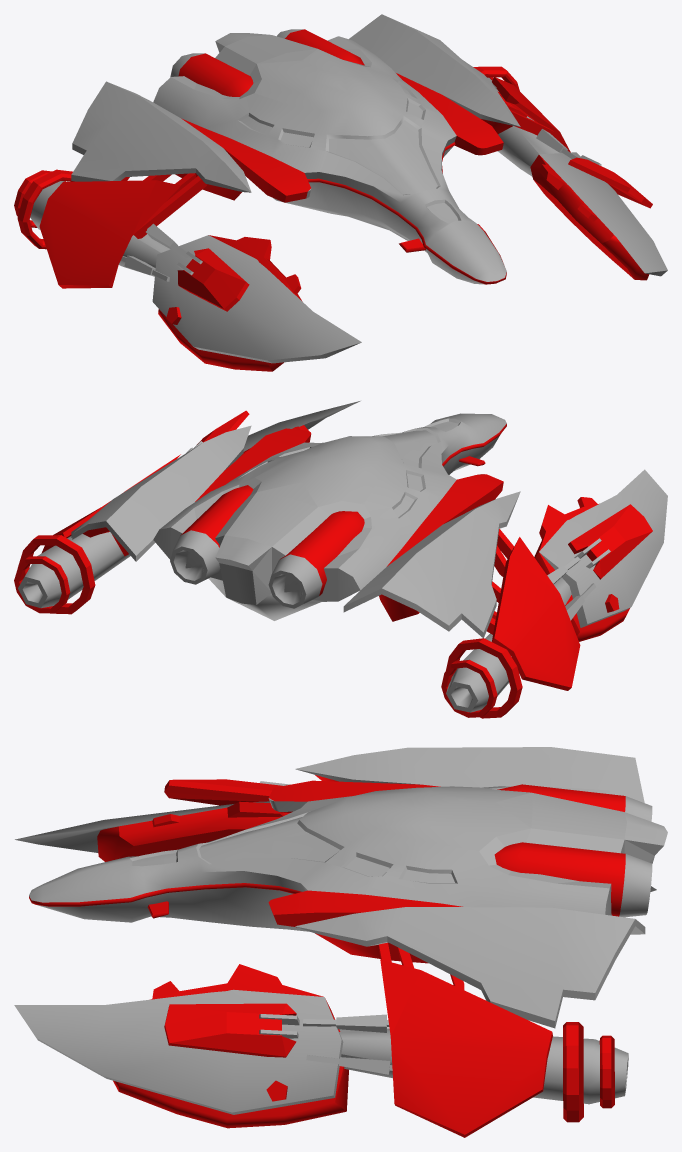
File: Kenos3.fbx
3 renders of one model, top to bottom at view 1: azimuth 30°, elevation 25°; view 2: azimuth 150°, elevation 25°; view 3: azimuth 270°, elevation 25°, orthographic. The views are drawn at different scales.
Visible parts, largest first — view 1: kenos3_diffuse, kenos3_color; view 2: kenos3_diffuse, kenos3_color; view 3: kenos3_diffuse, kenos3_color.
Part boxes in pixels (x1,y1,x2,y2): kenos3_diffuse: [30, 14, 667, 363]; kenos3_color: [14, 29, 652, 371]; kenos3_diffuse: [18, 401, 667, 712]; kenos3_color: [14, 410, 652, 718]; kenos3_diffuse: [14, 747, 667, 1114]; kenos3_color: [29, 775, 625, 1137].
Size of the model in its own units: 7.17 by 2.31 by 6.61.
